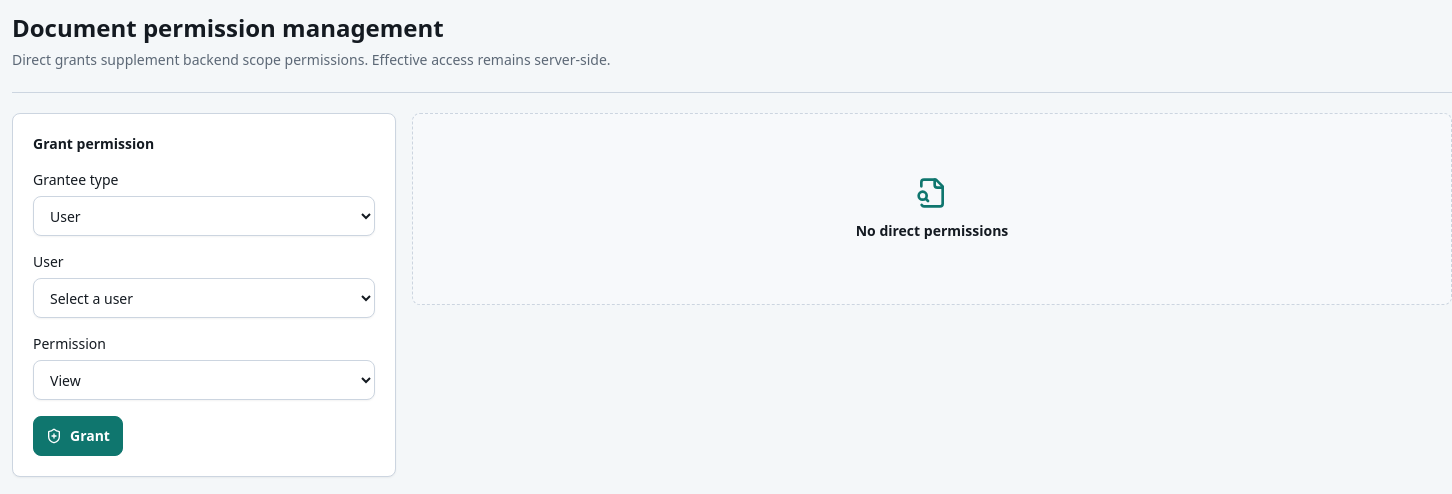
Test: DocumentPermissionsPage › shows a safe message when grant fails
Select "UAT Manager — manager.uat@example.test" in the dropdown labelled "User" at (204, 298), box 33,278 -> 375,318
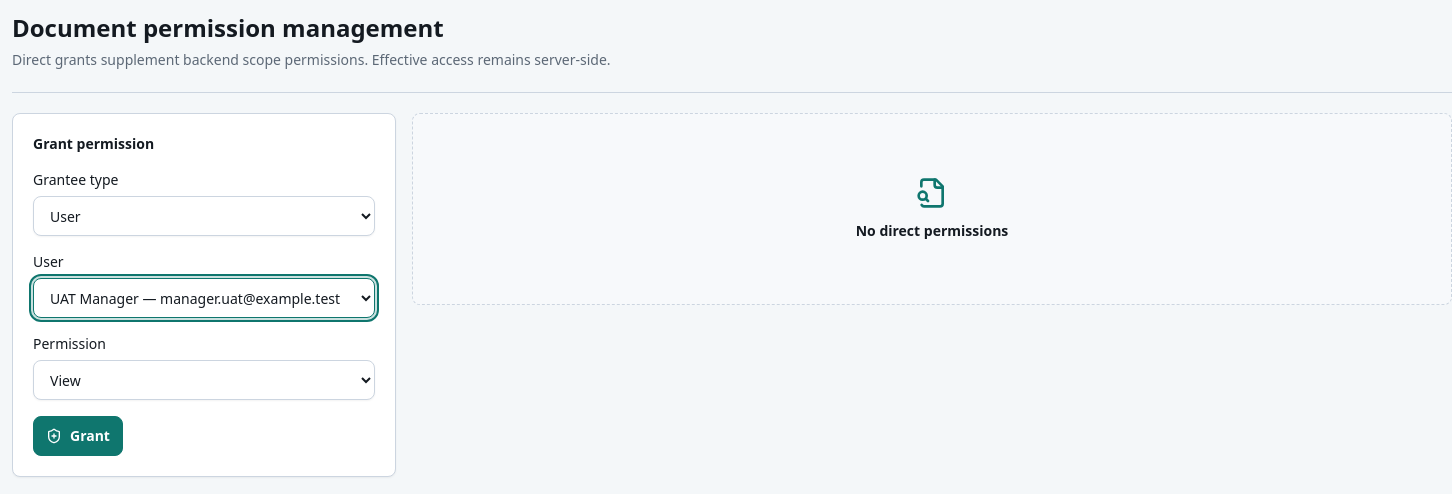
Click the button "Grant".
click(78, 436)  # box 33,416 -> 123,456
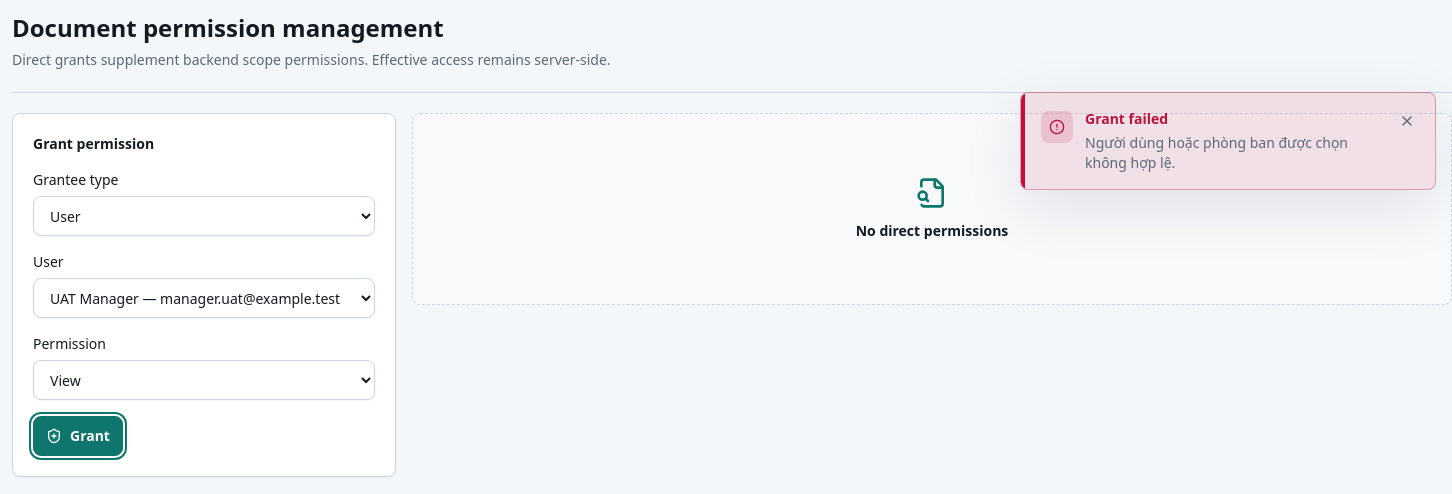
Check: the text "Người dùng hoặc phòng ban được chọn không hợp lệ." is shown, box 1085,133 -> 1383,173
